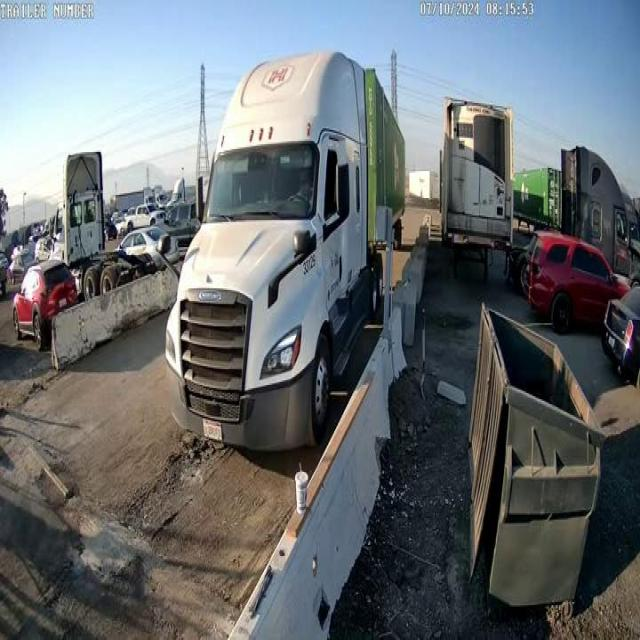TRUCK_CONTAINER: (164, 48, 406, 454)
